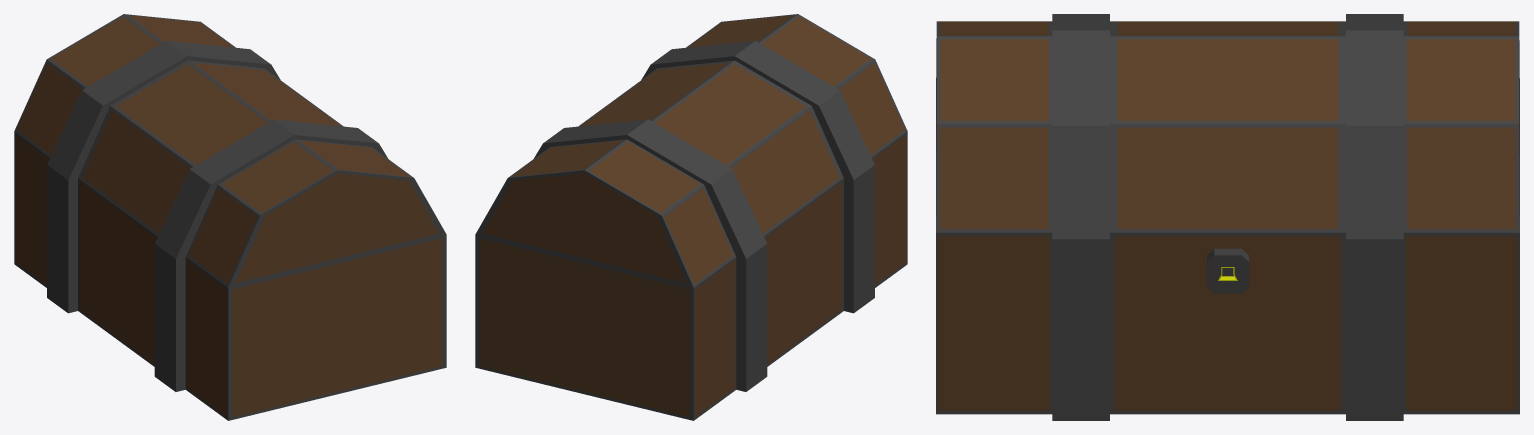
The model's file is Chest1.fbx.
The picture shows the model from 3 angles, left to right: view 1: azimuth 30°, elevation 25°; view 2: azimuth 150°, elevation 25°; view 3: azimuth 270°, elevation 25°; orthographic projection. The views are drawn at different scales.
Parts seen in each view (by area): view 1: Top, Base; view 2: Top, Base; view 3: Top, Base.
Boxes of the visible parts, x1,y1,x2,y2 form: Top: (14, 14, 446, 287); Base: (14, 131, 446, 420); Top: (475, 14, 907, 287); Base: (475, 131, 907, 420); Top: (936, 14, 1519, 239); Base: (936, 232, 1519, 420).
Bounding box in the file's own units: 113 × 103 × 176.
